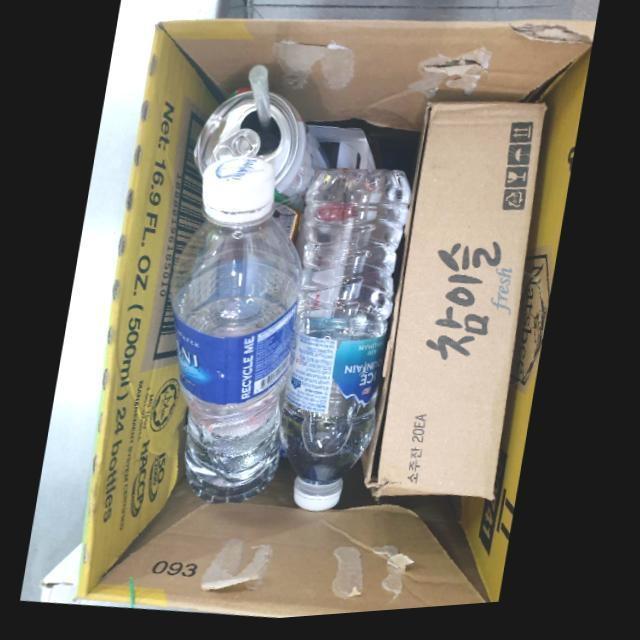metal: (198, 90, 332, 220)
paper: (365, 103, 550, 507)
plastic: (173, 158, 305, 506), (283, 170, 414, 514)
